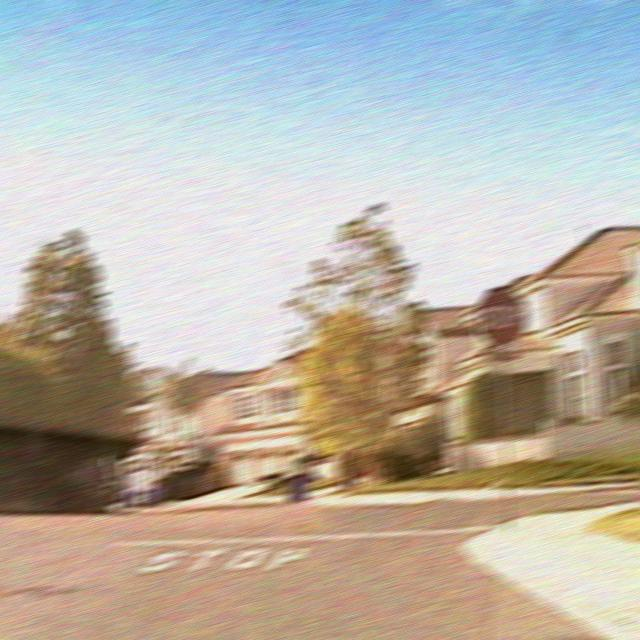stop_sign: (476, 286, 528, 347)
